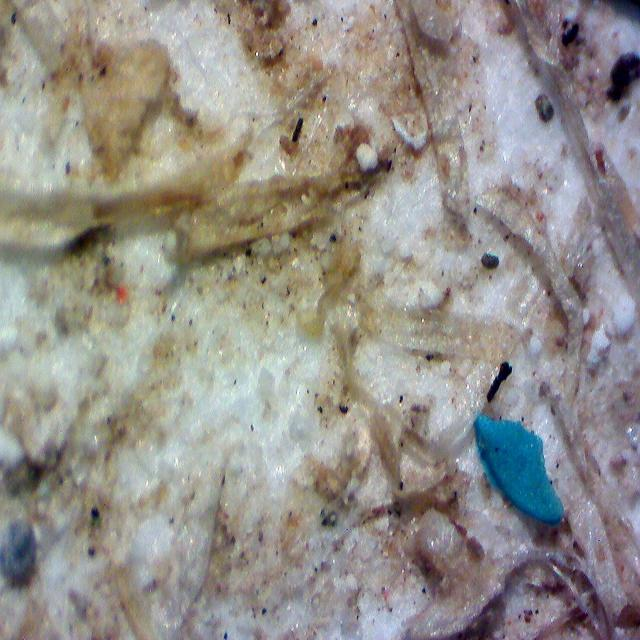microplastic: (466, 400, 571, 545)
